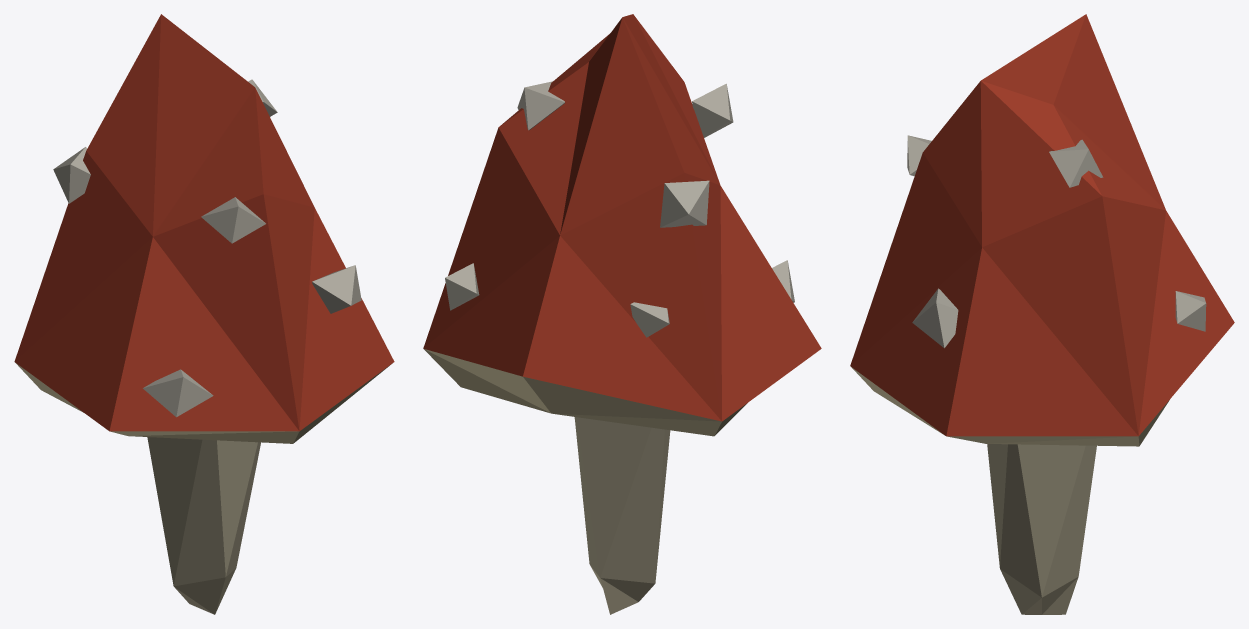
The model's file is mushroom_02.fbx.
3 renders of one model, left to right at view 1: azimuth 30°, elevation 25°; view 2: azimuth 150°, elevation 25°; view 3: azimuth 270°, elevation 25°, orthographic. The views are drawn at different scales.
Parts seen in each view (by area): view 1: mushroom_02; view 2: mushroom_02; view 3: mushroom_02.
Part boxes in pixels (x1,y1,x2,y2): mushroom_02: (14, 14, 394, 614); mushroom_02: (423, 14, 821, 614); mushroom_02: (850, 14, 1234, 614).
Bounding box in the file's own units: 1.32 × 2.57 × 1.52.
